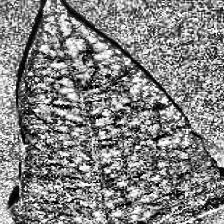Blossom Blight: (144, 165, 192, 201), (60, 28, 110, 61), (25, 159, 62, 202), (91, 77, 131, 104)
